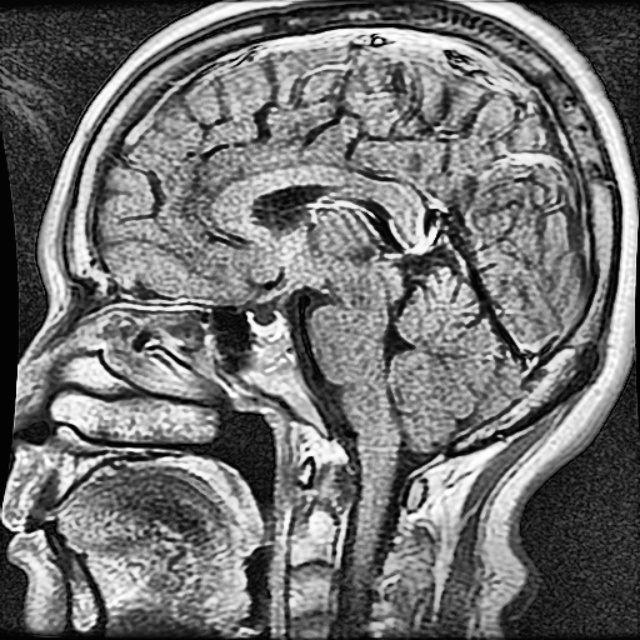Pituitary: (248, 312, 284, 340)
